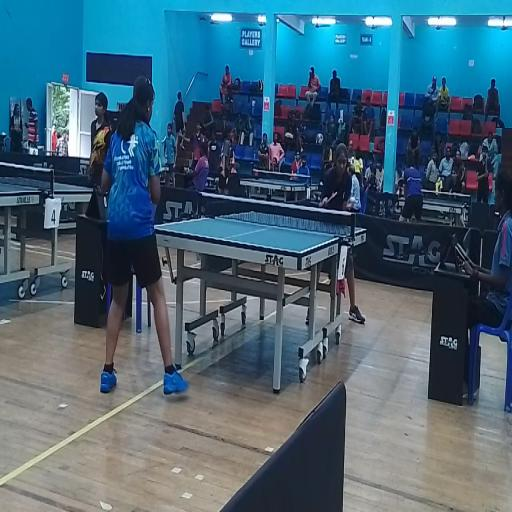ball: (349, 198, 355, 204)
